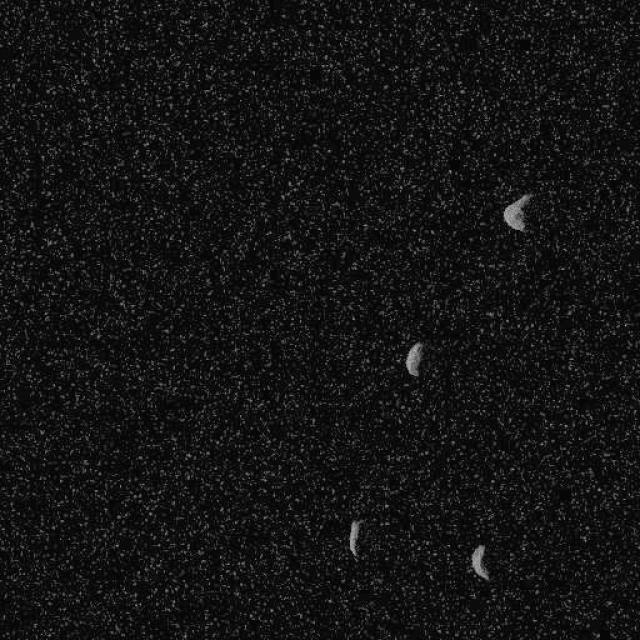D2: (502, 192, 532, 232), (470, 542, 490, 582), (404, 340, 424, 378), (348, 518, 362, 558)
